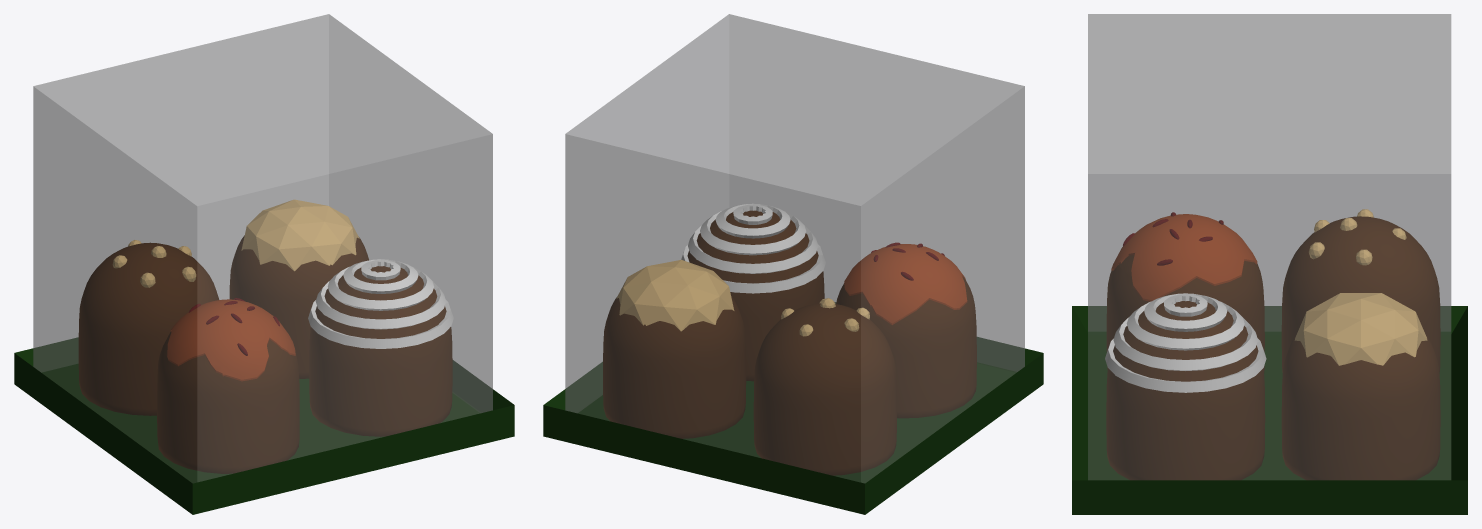
Rendered from ChocolateTruffle_236.obj.
3 views of the same model, side by side, from view 1: azimuth 30°, elevation 25°; view 2: azimuth 150°, elevation 25°; view 3: azimuth 270°, elevation 25° (orthographic). The views are drawn at different scales.
Visible parts, largest first — view 1: Box002, Box001, Capsule004, Capsule003, Capsule001, Capsule002; view 2: Box002, Box001, Capsule002, Capsule001, Capsule003, Capsule004; view 3: Box002, Box001, Capsule004, Capsule002, Capsule001, Capsule003.
Boxes of the visible parts, box(x1,y1,x2,y2) form: Box002: box(33, 14, 492, 483); Box001: box(14, 337, 514, 514); Capsule004: box(308, 259, 453, 436); Capsule003: box(157, 298, 299, 473); Capsule001: box(78, 240, 218, 415); Capsule002: box(229, 199, 368, 378); Box002: box(565, 14, 1024, 483); Box001: box(543, 302, 1043, 514); Capsule002: box(603, 260, 746, 438); Capsule001: box(753, 298, 896, 475); Capsule003: box(836, 242, 976, 418); Capsule004: box(681, 203, 825, 381); Box002: box(1088, 14, 1451, 479); Box001: box(1072, 306, 1467, 514); Capsule004: box(1105, 293, 1266, 480); Capsule002: box(1281, 293, 1440, 480); Capsule001: box(1281, 209, 1440, 372); Capsule003: box(1106, 212, 1264, 373).
Bounding box in the file's own units: 15.82 × 14.12 × 15.2.
